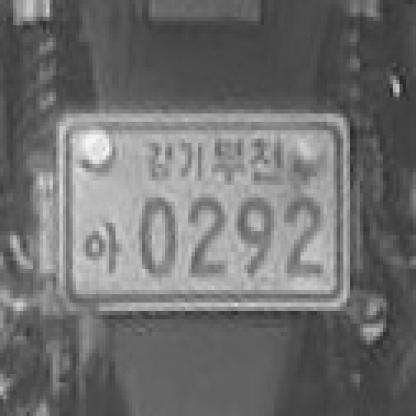bnum: (44, 100, 361, 330)
